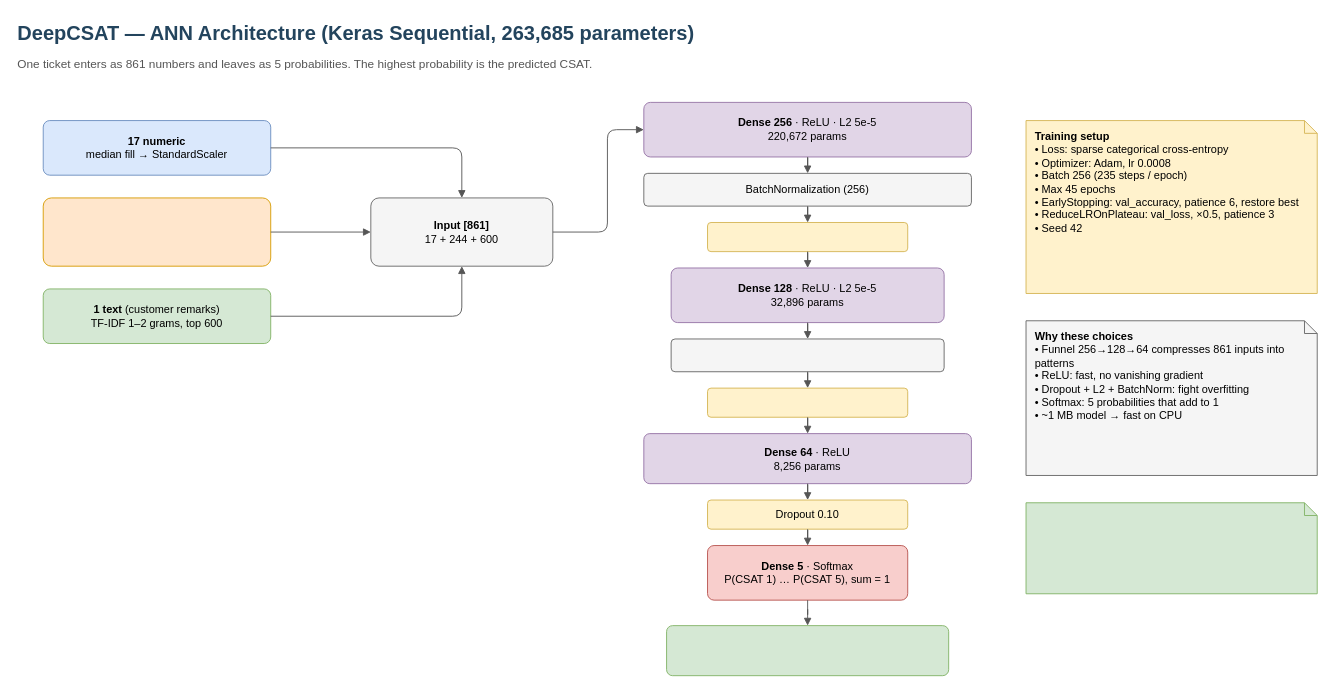
This 1333x692 diagram has some shape labels left out. Here are the shapes that lost their labels. From the top down, the centre of each, then its label:
the point at 156,231: 11 categorical most-frequent fill → One-Hot (min 10 rows, max 100 per feature)
the point at 807,237: Dropout 0.18
the point at 807,355: BatchNormalization (128)
the point at 807,402: Dropout 0.15
the point at 1171,548: Result Best epoch 5 of 11 Val accuracy 72.31% Test accuracy 72.12%
the point at 807,650: argmax → CSAT score e.g. [0.05, 0.00, 0.01, 0.09, 0.85 ] → CSAT 5
